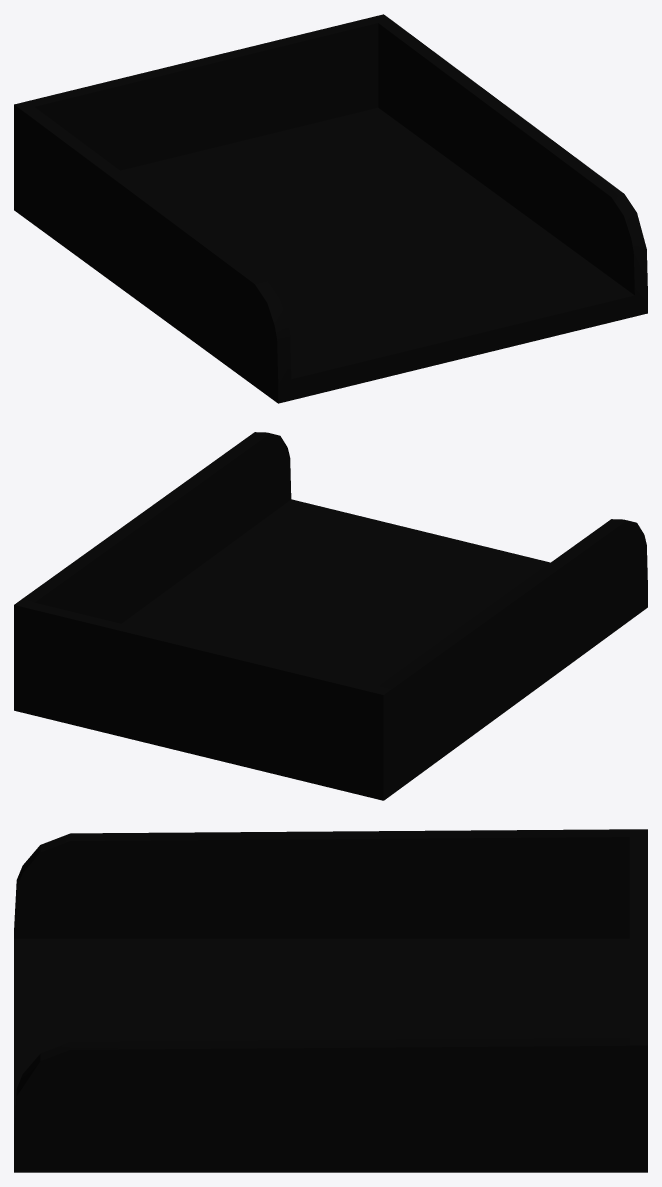
File: Paper Tray_lod3.fbx
3 views of the same model, one above another, from view 1: azimuth 30°, elevation 25°; view 2: azimuth 150°, elevation 25°; view 3: azimuth 270°, elevation 25° (orthographic). The views are drawn at different scales.
Visible parts, largest first — view 1: Paper_Tray; view 2: Paper_Tray; view 3: Paper_Tray.
Part boxes in pixels (x1=…): Paper_Tray: x1=14, y1=14, x2=647, y2=403; Paper_Tray: x1=14, y1=432, x2=647, y2=800; Paper_Tray: x1=14, y1=829, x2=647, y2=1172.
Bounding box in the file's own units: 1.83 × 0.5 × 2.27.
